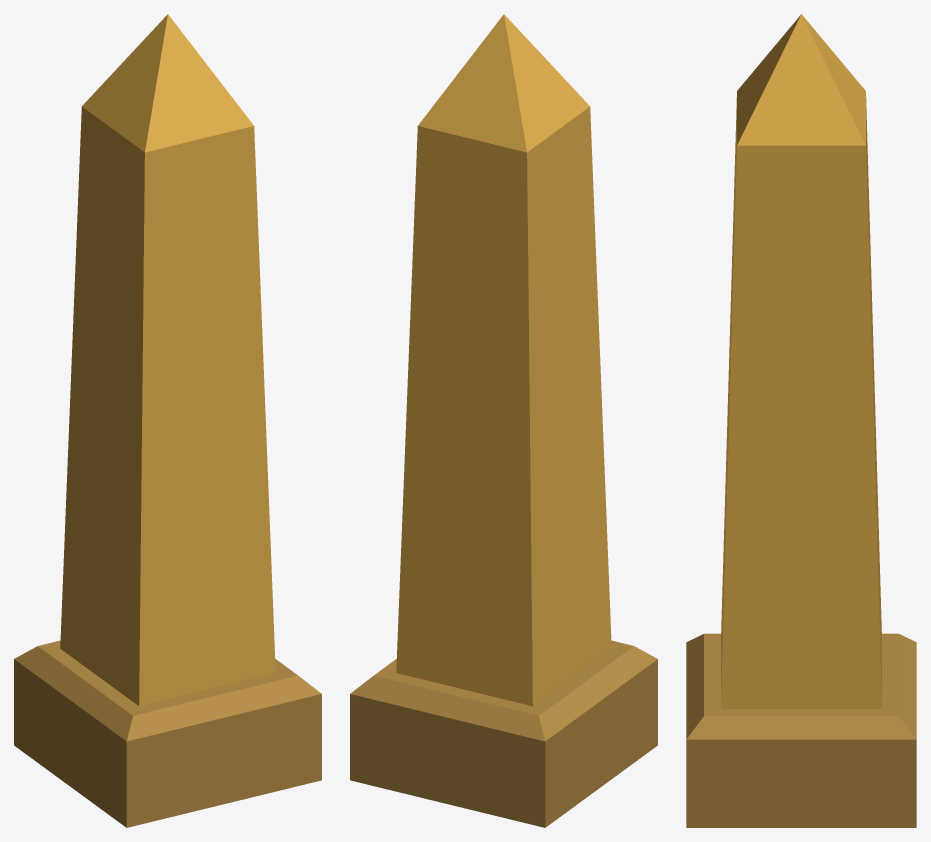
The model's file is Egyptian Obelisk.fbx.
3 views of the same model, side by side, from view 1: azimuth 30°, elevation 25°; view 2: azimuth 150°, elevation 25°; view 3: azimuth 270°, elevation 25° (orthographic). The views are drawn at different scales.
Visible parts, largest first — view 1: Egyptian Obelisk; view 2: Egyptian Obelisk; view 3: Egyptian Obelisk.
Boxes of the visible parts, x1=… form: Egyptian Obelisk: x1=14, y1=14, x2=321, y2=827; Egyptian Obelisk: x1=350, y1=14, x2=657, y2=827; Egyptian Obelisk: x1=686, y1=14, x2=916, y2=827.
Size of the model in its own units: 6 by 22 by 6.
